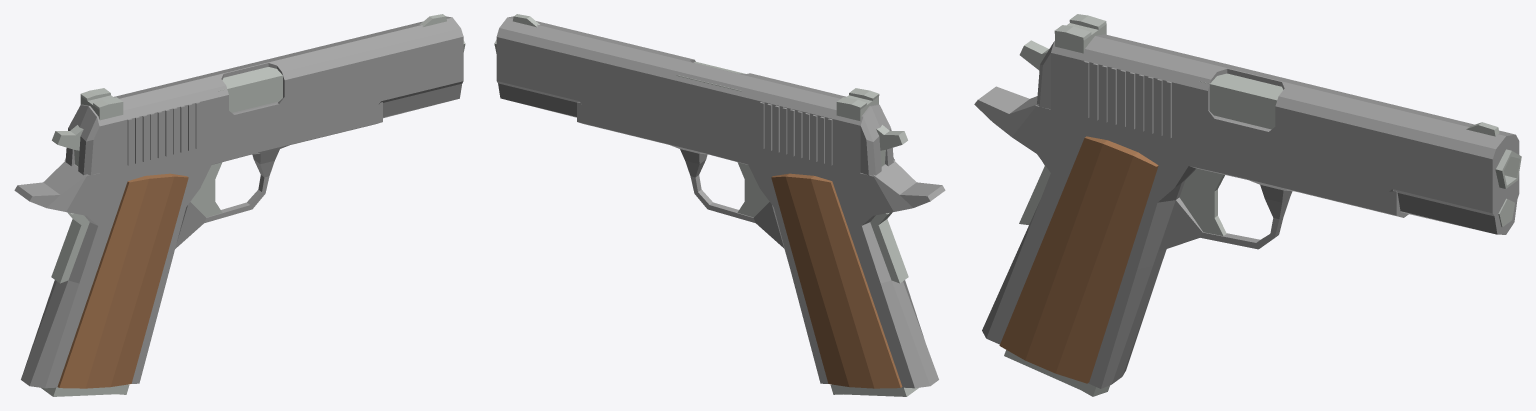
File: Colt 1911.glb
3 renders of one model, left to right at view 1: azimuth 30°, elevation 25°; view 2: azimuth 150°, elevation 25°; view 3: azimuth 330°, elevation 25°, orthographic. The views are drawn at different scales.
Parts seen in each view (by area): view 1: Base, Slide, Trigger, Mag, Hammer; view 2: Base, Slide, Trigger, Mag, Hammer; view 3: Base, Slide, Trigger, Mag, Hammer.
Part boxes in pixels (<box>): Base: <box>14,40,465,388</box>; Slide: <box>64,14,463,176</box>; Trigger: <box>190,162,222,217</box>; Mag: <box>41,384,129,396</box>; Hammer: <box>52,125,83,166</box>; Base: <box>494,39,945,388</box>; Slide: <box>496,14,894,176</box>; Trigger: <box>737,162,769,217</box>; Mag: <box>830,384,918,396</box>; Hammer: <box>876,125,907,166</box>; Base: <box>974,73,1521,388</box>; Slide: <box>1035,14,1519,234</box>; Trigger: <box>1179,168,1226,235</box>; Mag: <box>1004,350,1109,396</box>; Hammer: <box>1019,40,1049,70</box>.
Bounding box in the file's own units: 4.48 × 2.92 × 0.5188.
